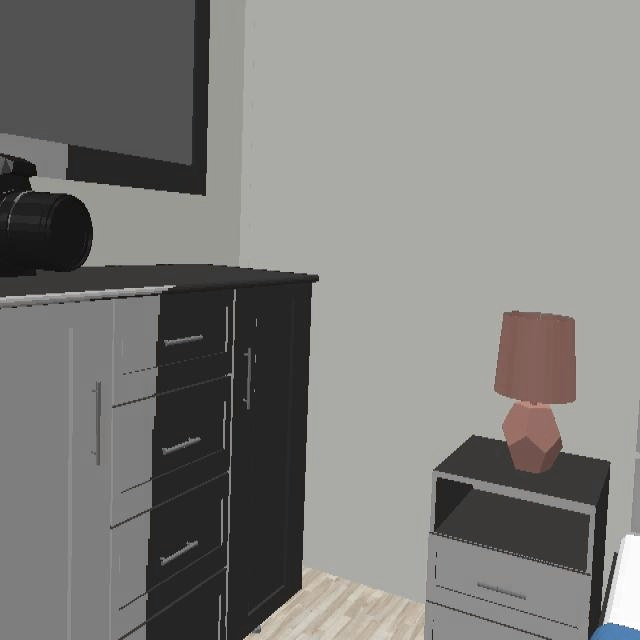bed: (592, 532, 640, 640)
lamp: (494, 312, 577, 475)
nighttable: (424, 436, 613, 640)
